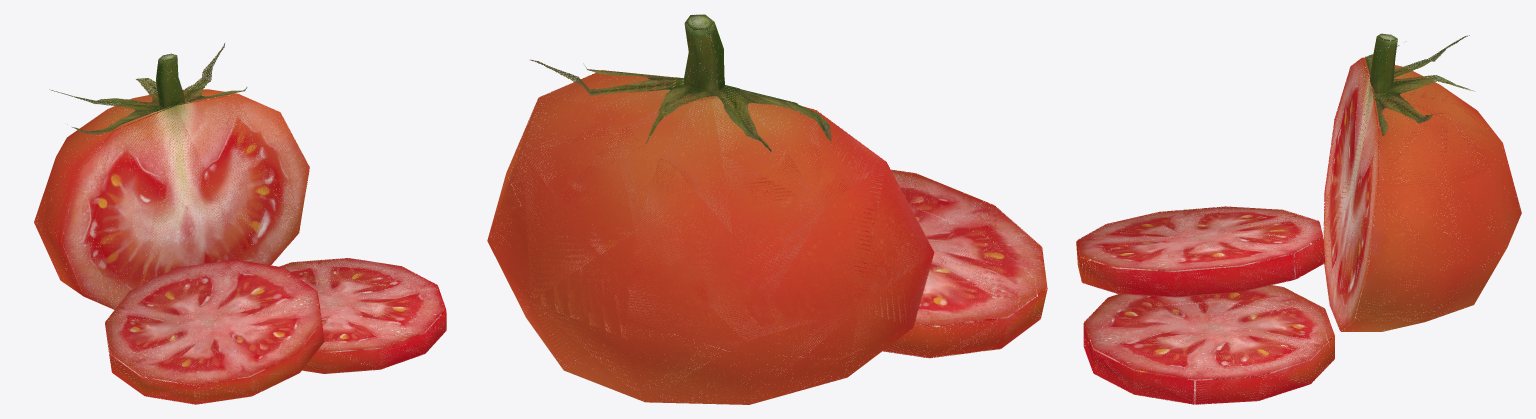
The model's file is tomatoes.glb.
3 views of the same model, side by side, from view 1: azimuth 30°, elevation 25°; view 2: azimuth 150°, elevation 25°; view 3: azimuth 270°, elevation 25° (orthographic). The views are drawn at different scales.
Visible parts, largest first — view 1: Sphere.007, Circle.005, Circle.004, Plane.004, Sphere.008; view 2: Sphere.007, Circle.005, Plane.004, Sphere.008; view 3: Sphere.007, Circle.004, Circle.005, Plane.004, Sphere.008.
Part boxes in pixels (x1,y1,x2,y2): Sphere.007: (34,89,309,315); Circle.005: (105,259,324,404); Circle.004: (260,258,446,373); Plane.004: (49,43,247,134); Sphere.008: (156,53,184,110); Sphere.007: (487,70,934,404); Circle.005: (746,167,1047,358); Plane.004: (530,59,831,152); Sphere.008: (683,14,725,100); Sphere.007: (1323,57,1521,331); Circle.004: (1083,285,1334,404); Circle.005: (1076,206,1324,297); Plane.004: (1364,35,1474,136); Sphere.008: (1370,33,1397,94).
Bounding box in the file's own units: 2.89 × 2.09 × 3.1.
1 material, 1 textured.
